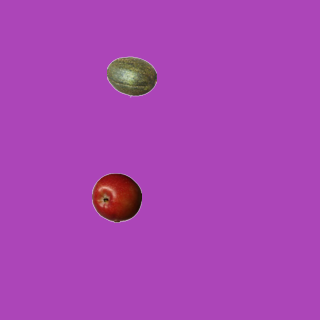Apple Braeburn: (91, 172, 141, 222)
Melon Piel de Sapo: (106, 51, 156, 101)
